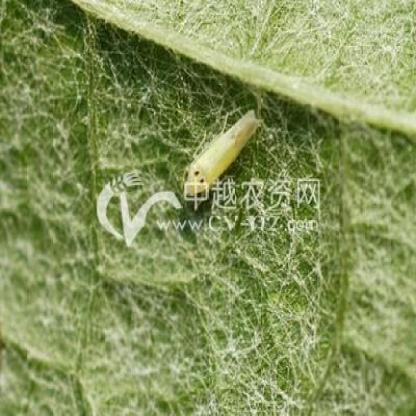Green-Leafhopper: (182, 100, 262, 207)
